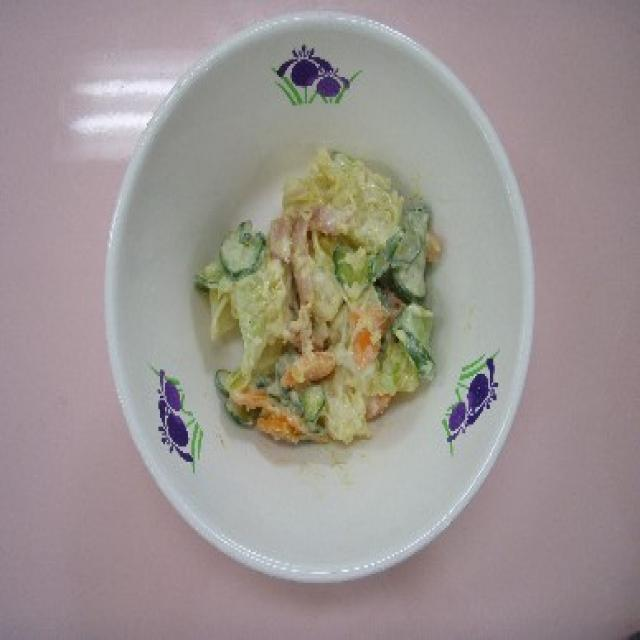蔬菜料理: (102, 7, 533, 585)
